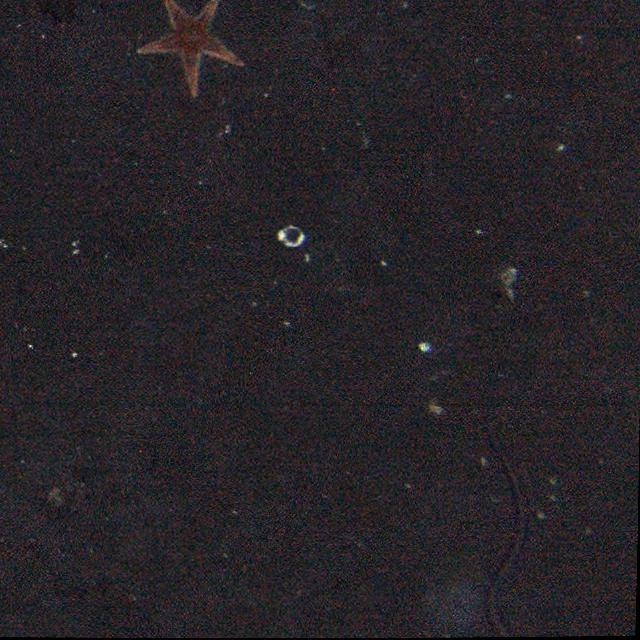eel: (466, 410, 540, 640)
